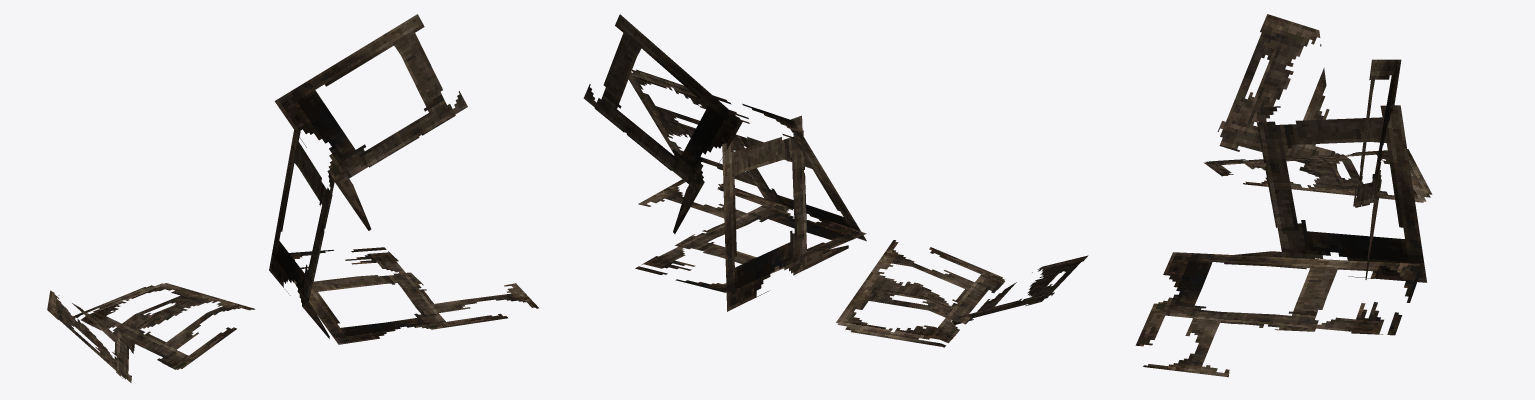
Rendered from WCRATE2X.glb.
The picture shows the model from 3 angles, left to right: view 1: azimuth 30°, elevation 25°; view 2: azimuth 150°, elevation 25°; view 3: azimuth 270°, elevation 25°; orthographic projection. The views are drawn at different scales.
Parts seen in each view (by area): view 1: _WCRATE2X; view 2: _WCRATE2X; view 3: _WCRATE2X.
Part boxes in pixels (<box>): _WCRATE2X: <box>47,14,538,382</box>; _WCRATE2X: <box>583,14,1088,347</box>; _WCRATE2X: <box>1135,14,1432,377</box>.
Bounding box in the file's own units: 2.03 × 1.05 × 1.26.
1 material, 1 textured.
